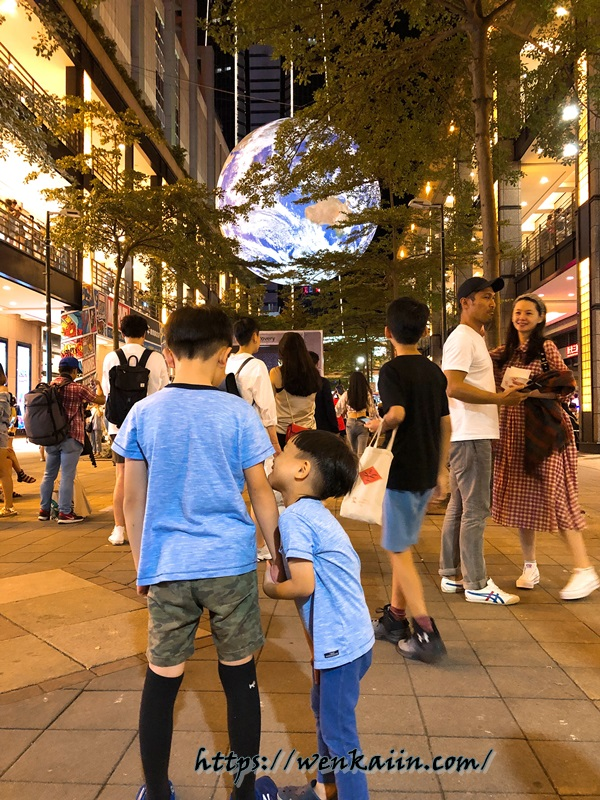people: (140, 308, 275, 800), (272, 427, 378, 800), (502, 295, 600, 604), (378, 295, 450, 660), (446, 279, 515, 606), (108, 316, 169, 544), (32, 356, 97, 522), (234, 320, 274, 427), (274, 333, 317, 430), (342, 371, 373, 460), (1, 365, 13, 517)
